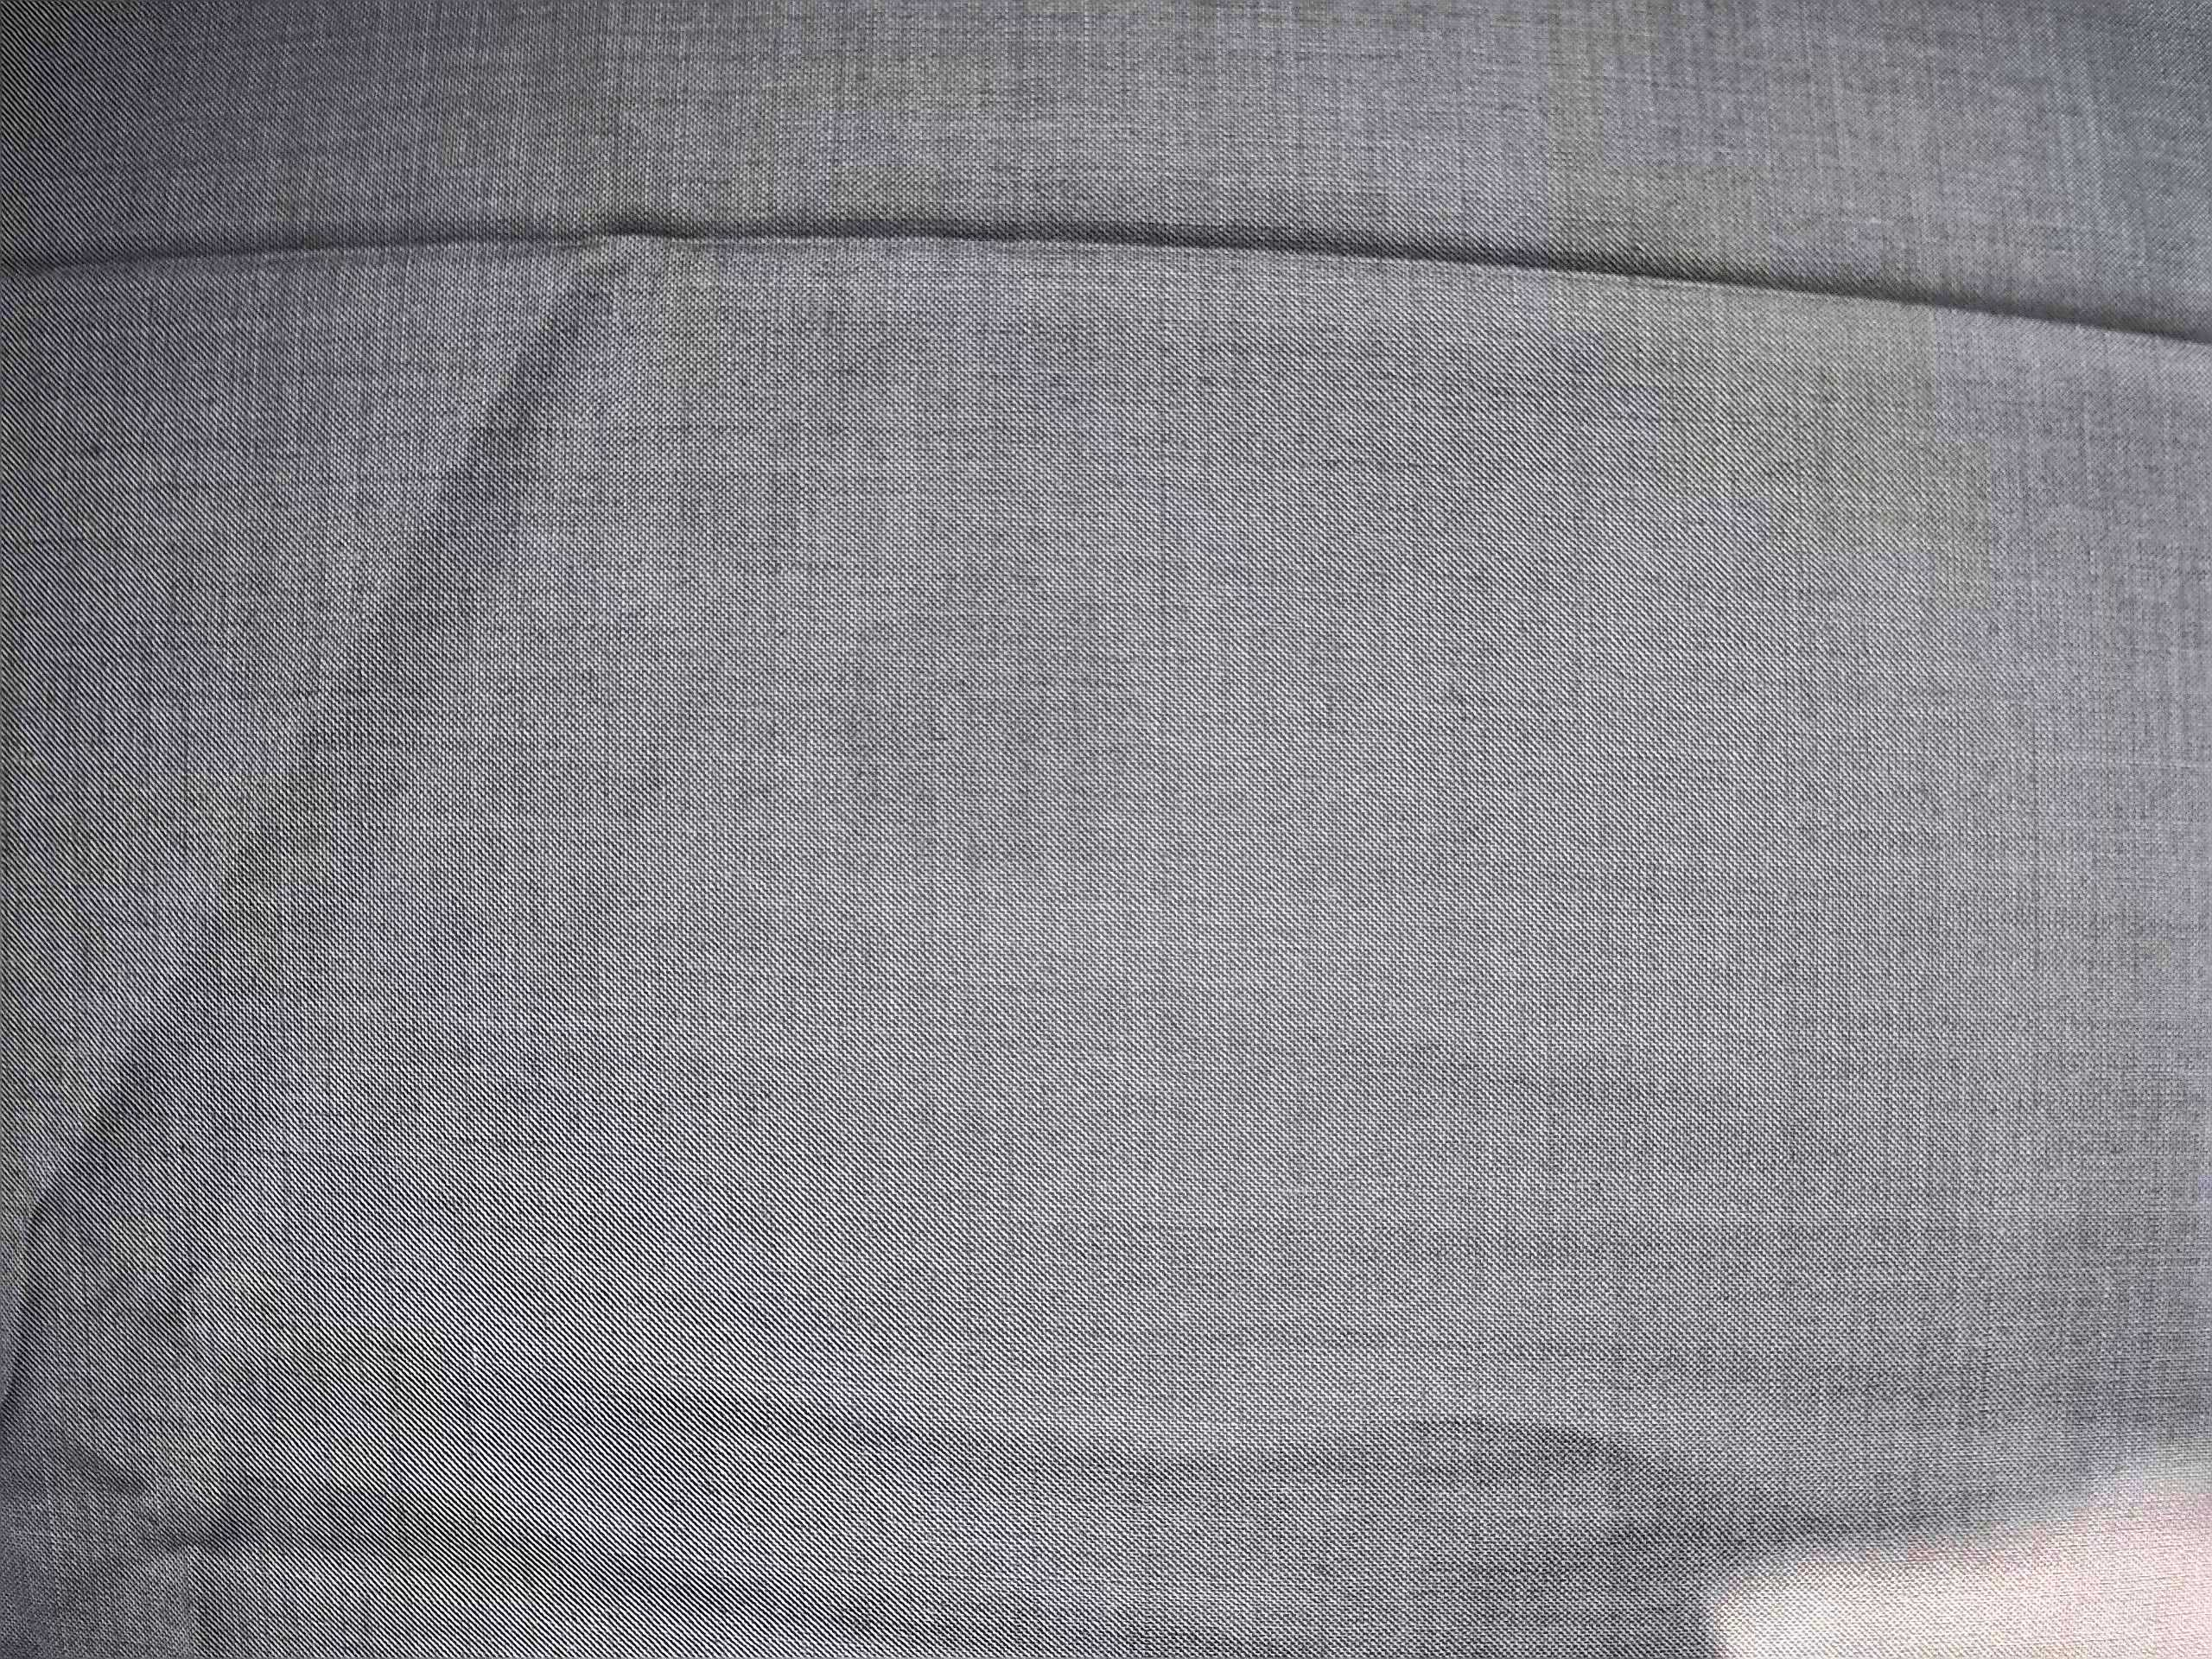stains: (811, 527, 1179, 921)
